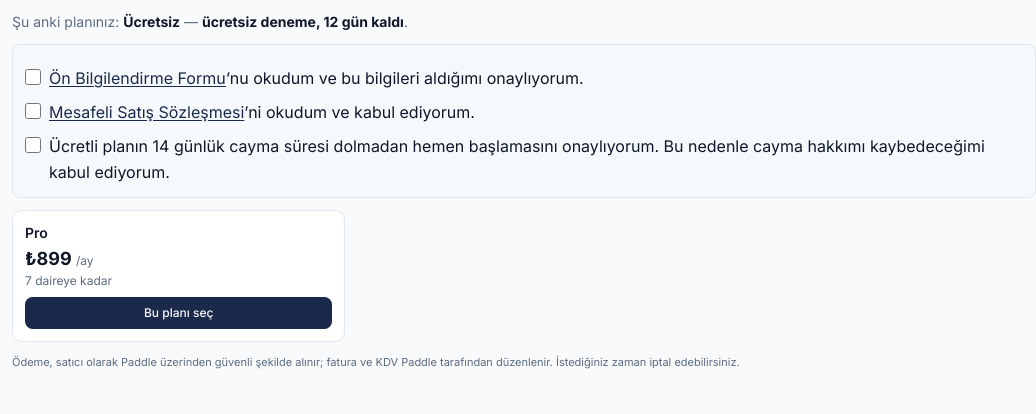
Scenario: PaddlePlans — ödeme tamamlanınca anında doğrulama › 🚨 uç 404 (anahtar sunucuda kapalı) → BUGÜNKÜ akış: checkout-pending işlem kimliğiyle gider, eski metin, sorma durur
Click the 1st checkbox. click: x=33, y=77
box: [25,69,41,85]
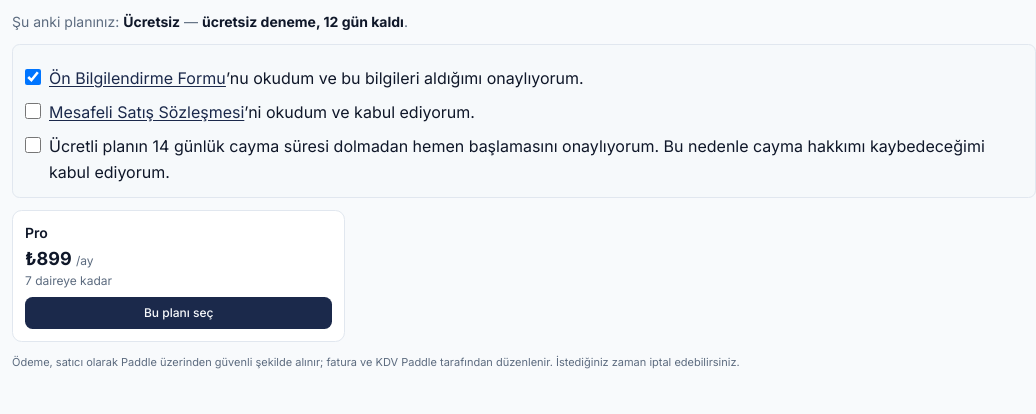
Click the checkbox labelled "Mesafeli Satış Sözleşmesi ’ni okudum ve kabul ediyorum.". click: x=33, y=111
box: [25,103,41,119]
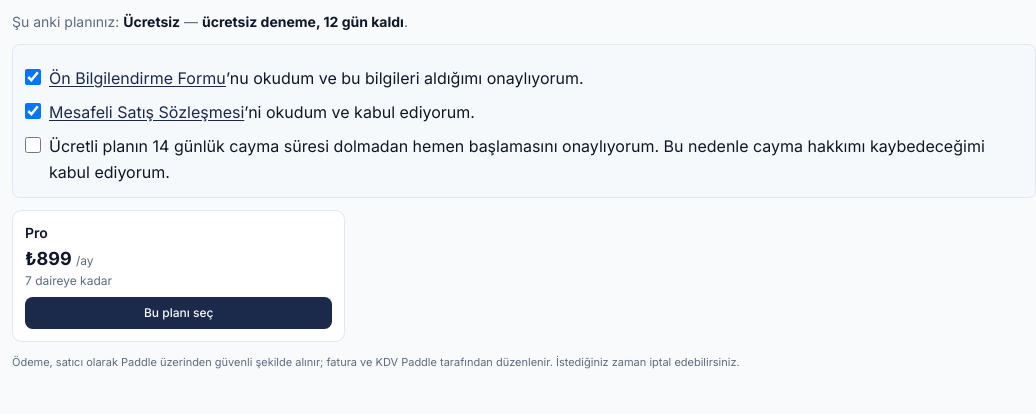
Click the 3rd checkbox. click: x=33, y=145
box: [25,137,41,153]
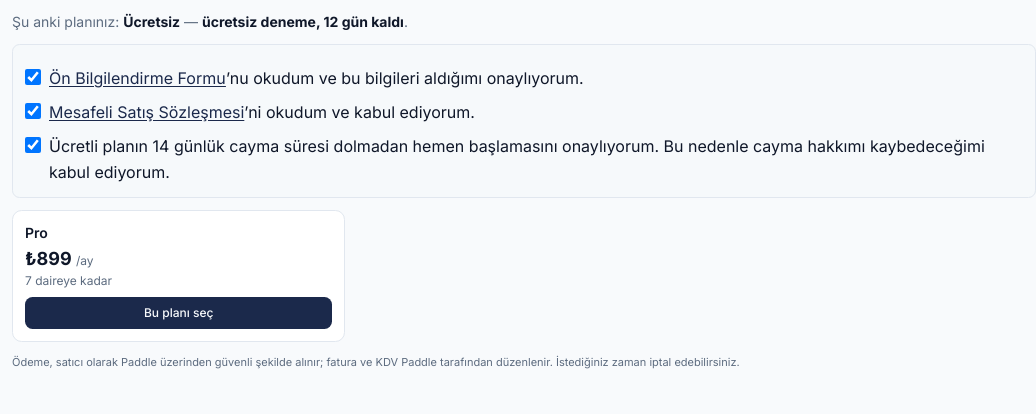
Click the button "Bu planı seç". click: x=179, y=313
box: [25,297,332,329]
Wait 60000 ms
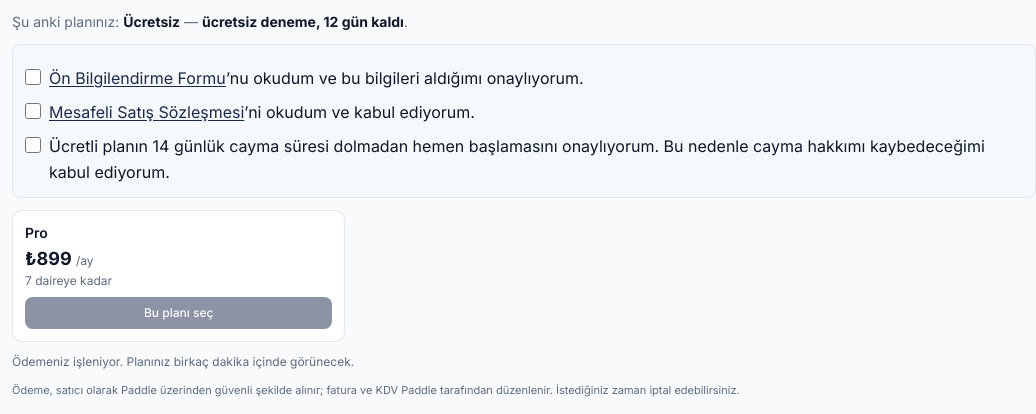
Expected: the text "Ödemeniz işleniyor. Planınız birkaç dakika içinde görünecek." is shown, [12,354,354,369]
